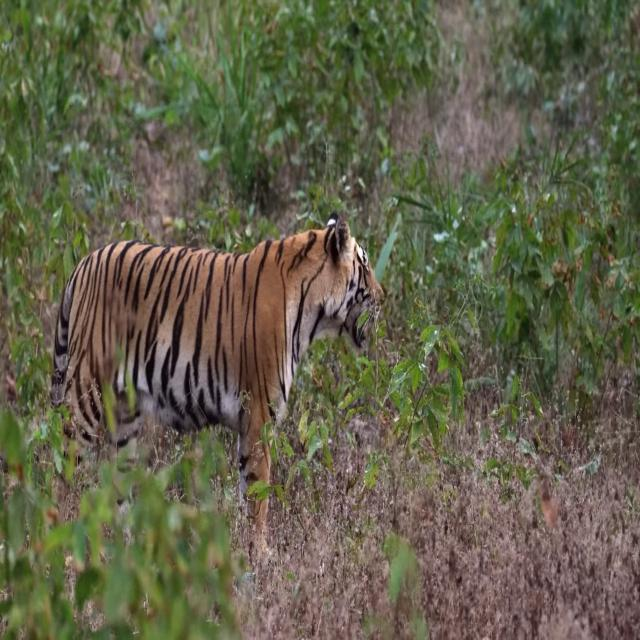tiger: (51, 209, 386, 566)
